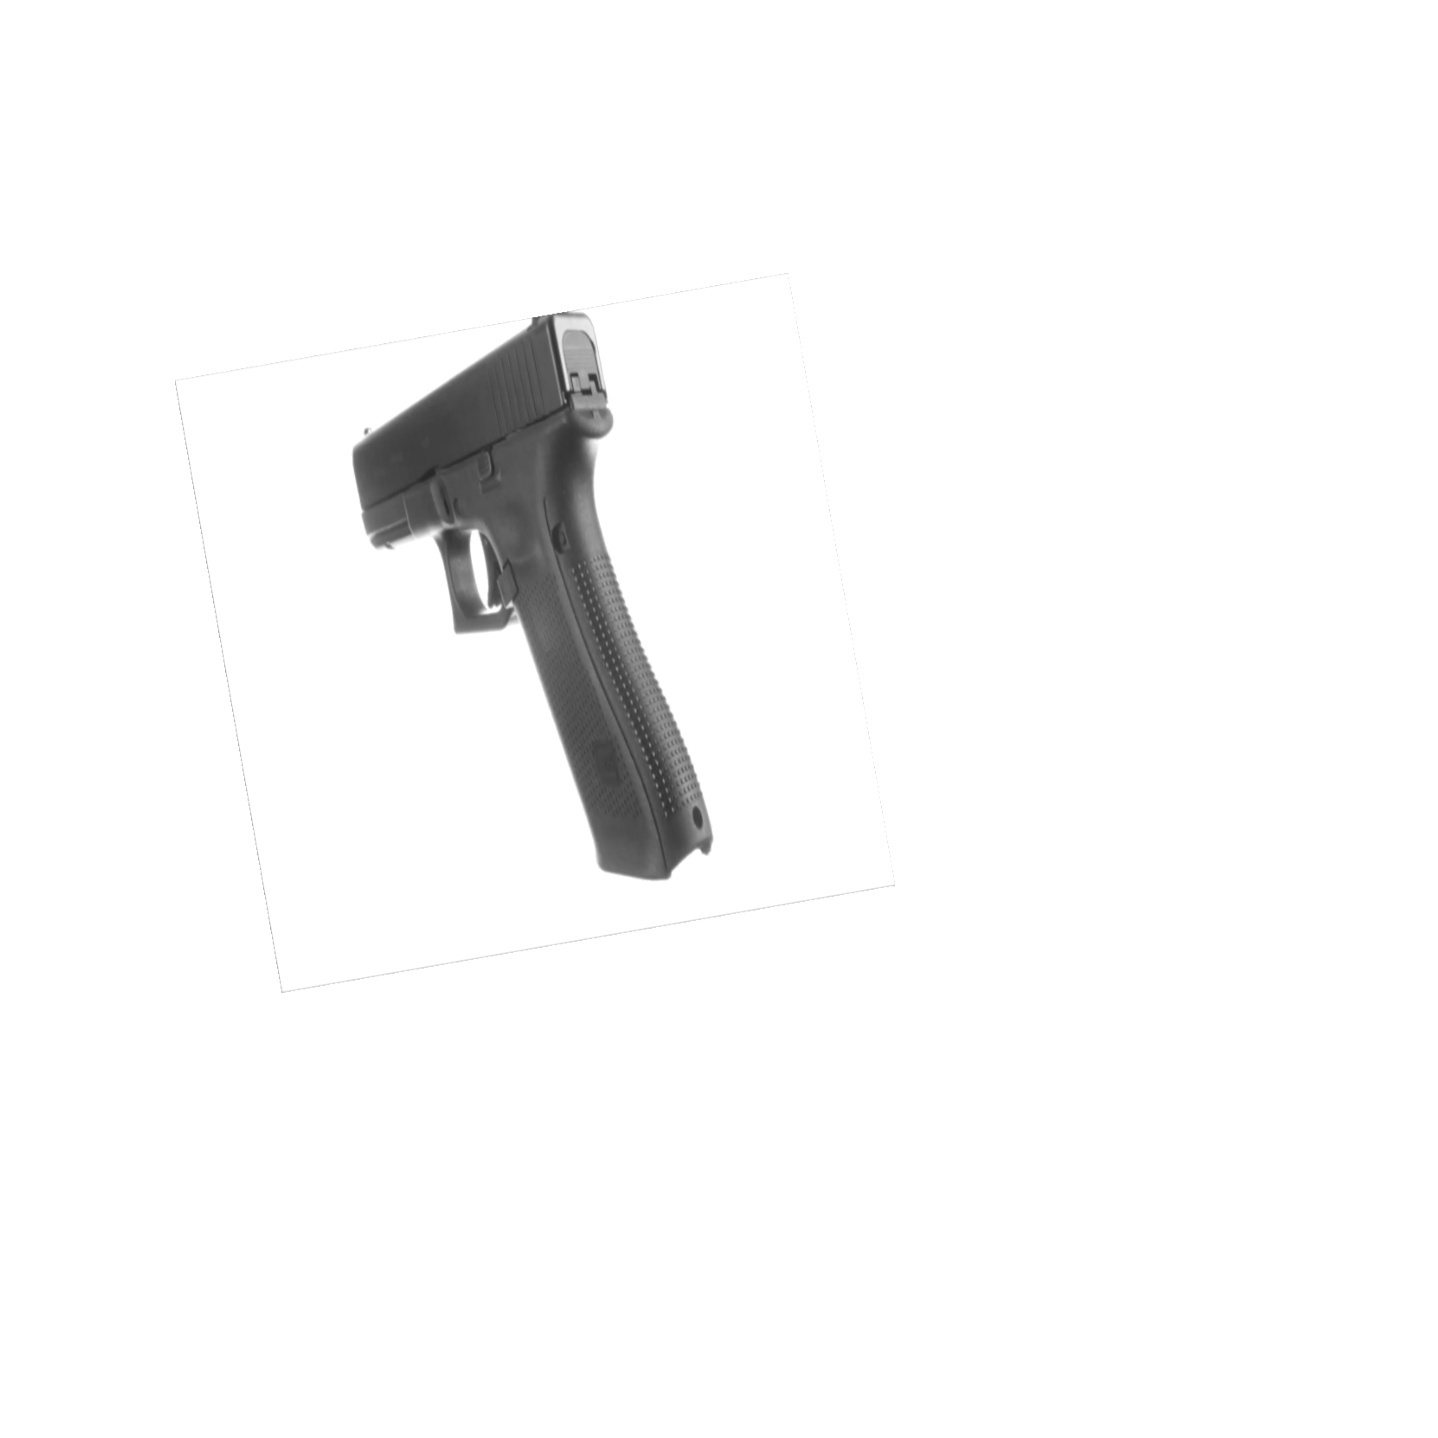gun: (349, 307, 714, 884)
